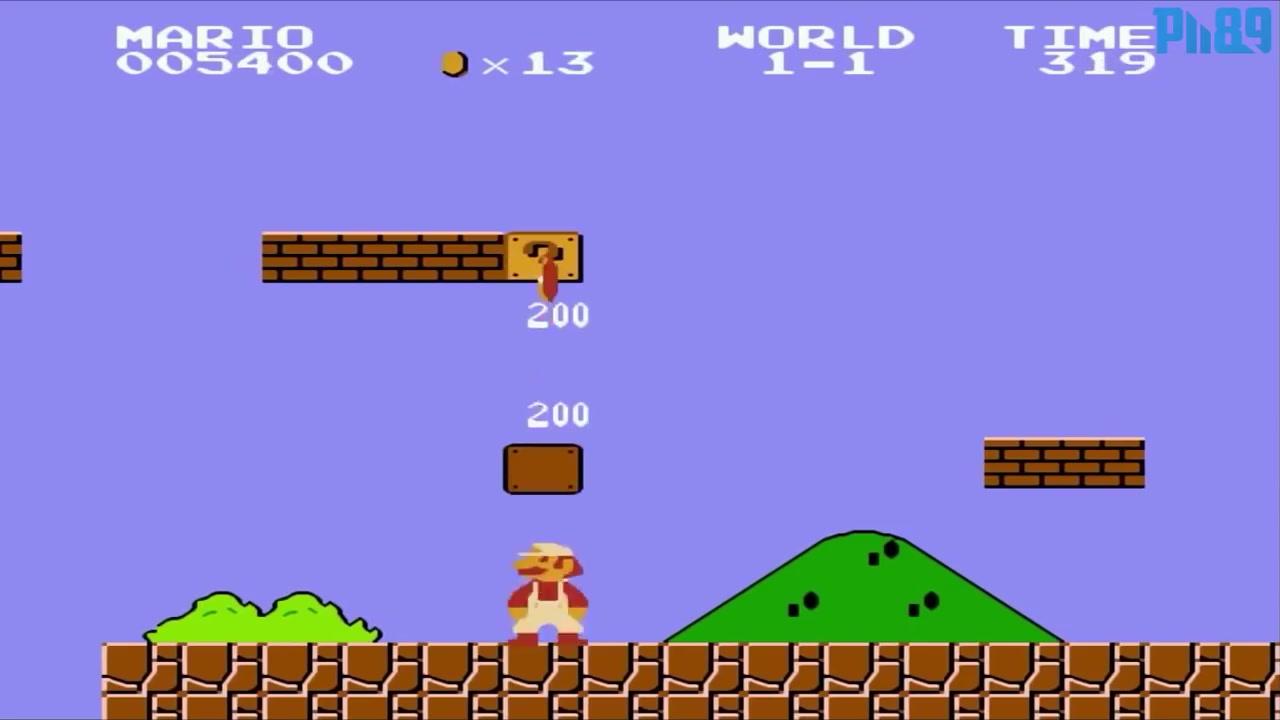mario: (506, 543, 592, 648)
